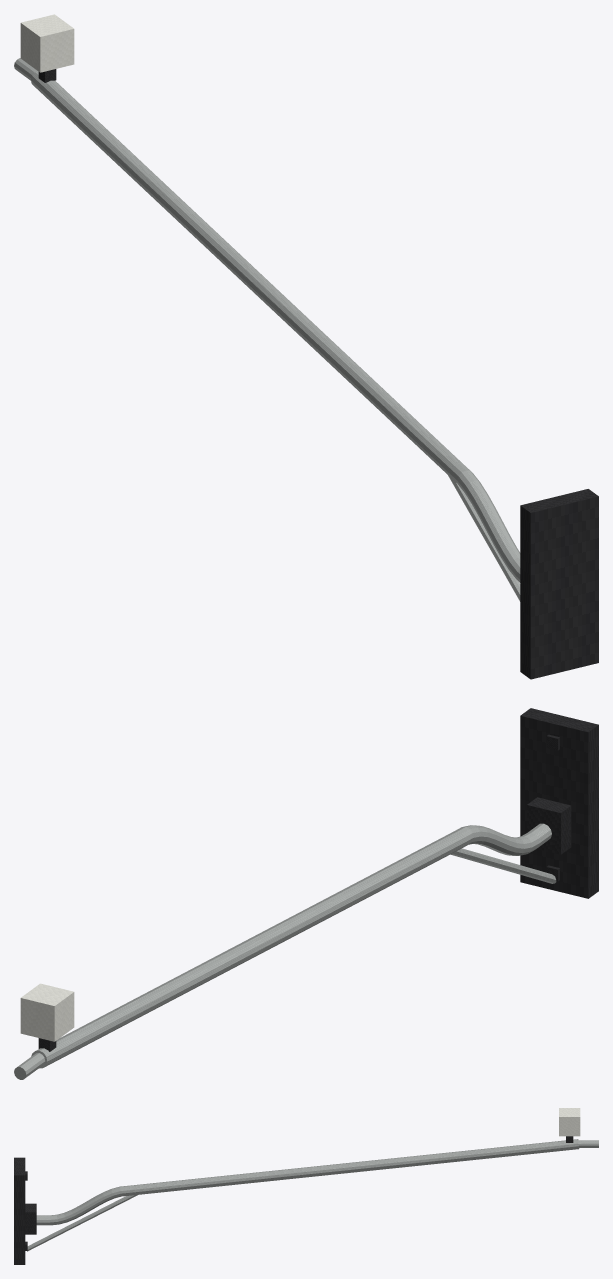
File: arm_5_straight.obj
3 renders of one model, top to bottom at view 1: azimuth 30°, elevation 25°; view 2: azimuth 150°, elevation 25°; view 3: azimuth 270°, elevation 25°, orthographic. The views are drawn at different scales.
Parts seen in each view (by area): view 1: pole_light_mount_5_straight; view 2: pole_light_mount_5_straight; view 3: pole_light_mount_5_straight.
Boxes of the visible parts, box(x1,y1,x2,y2) form: pole_light_mount_5_straight: box(14, 14, 598, 679); pole_light_mount_5_straight: box(14, 708, 598, 1079); pole_light_mount_5_straight: box(14, 1108, 598, 1264).
Bounding box in the file's own units: 0.375 × 1.4 × 5.19.
